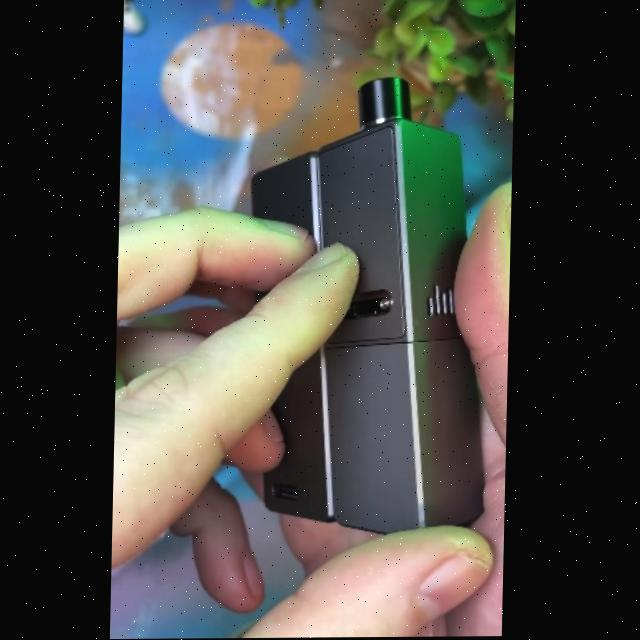vape: (246, 77, 496, 537)
